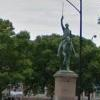Statue: (48, 12, 78, 68)
